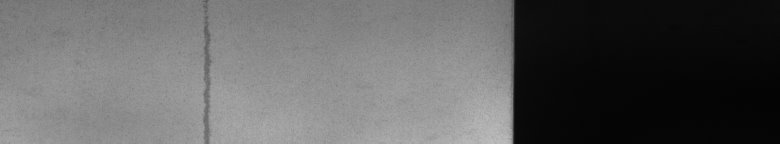hd: (200, 4, 216, 136)
